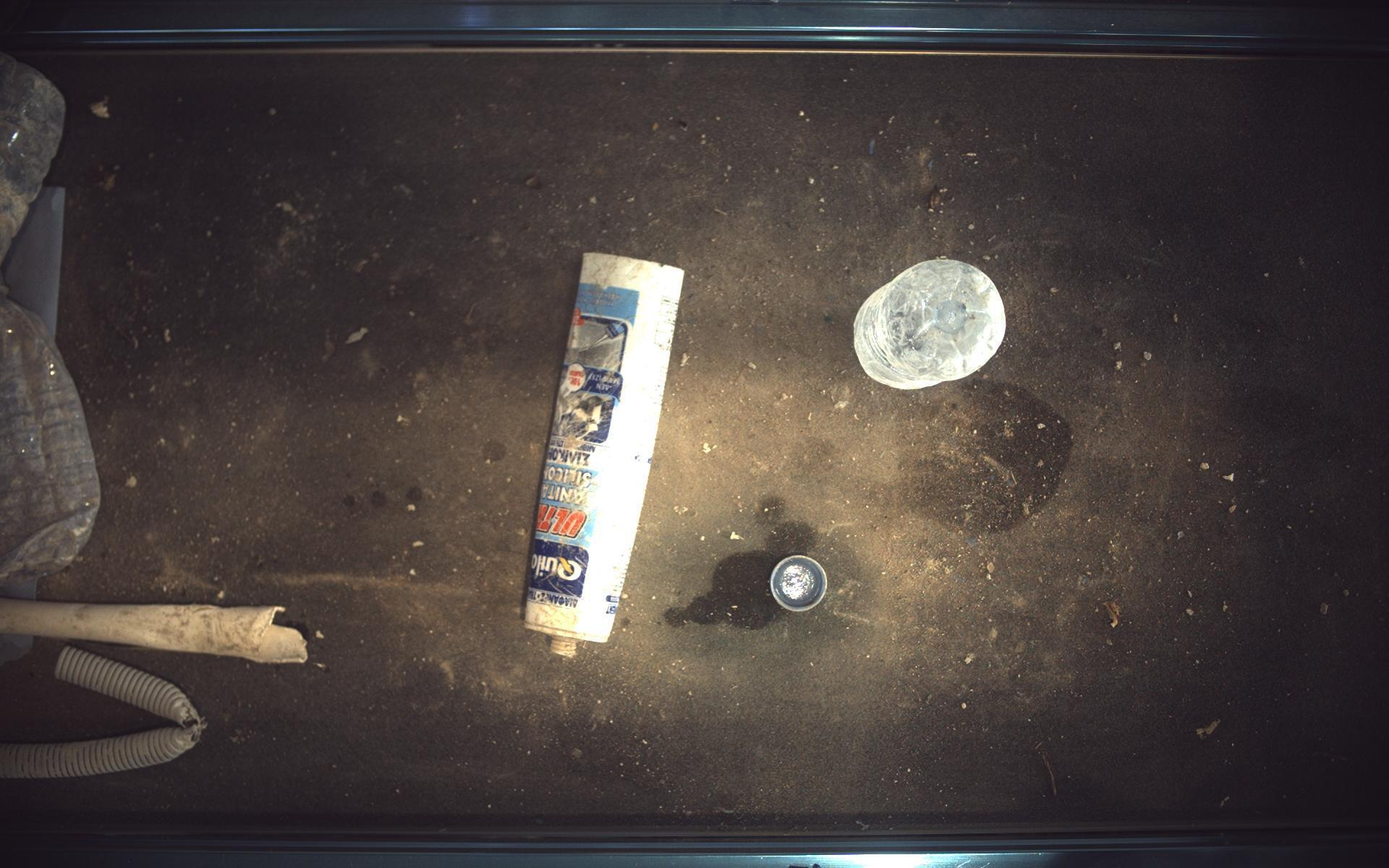general_w: (1, 280, 99, 587), (856, 258, 1008, 389), (1, 51, 64, 261), (1, 53, 63, 260), (771, 556, 829, 613)
pipes: (1, 647, 204, 780), (1, 600, 306, 664)
plastic: (525, 252, 685, 661)
